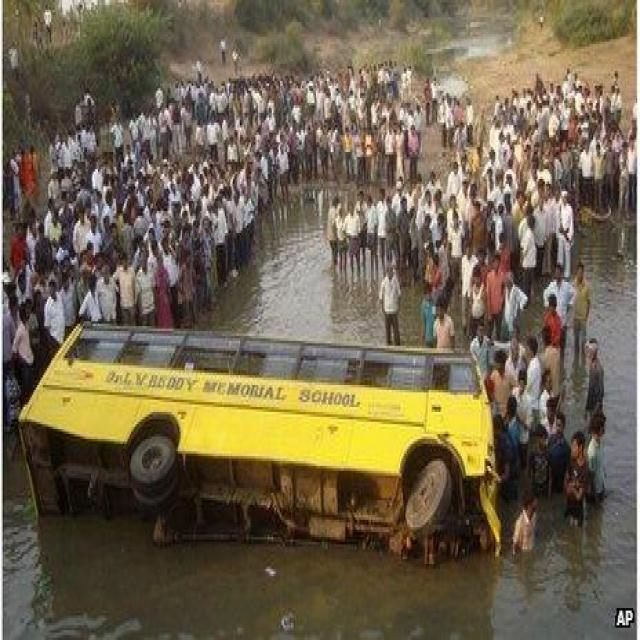accident: (20, 324, 501, 559)
